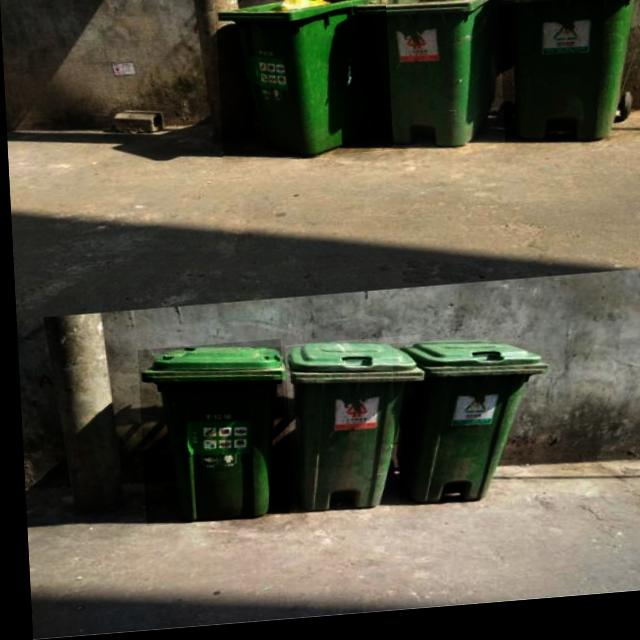garbage_bin: (134, 343, 284, 529), (387, 340, 546, 512), (354, 0, 517, 159), (281, 341, 423, 517), (497, 0, 640, 156)
overflow: (215, 0, 391, 168)
